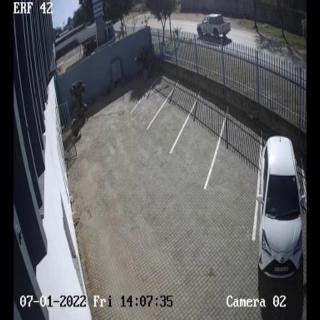car: (257, 134, 305, 281), (195, 14, 231, 43)
